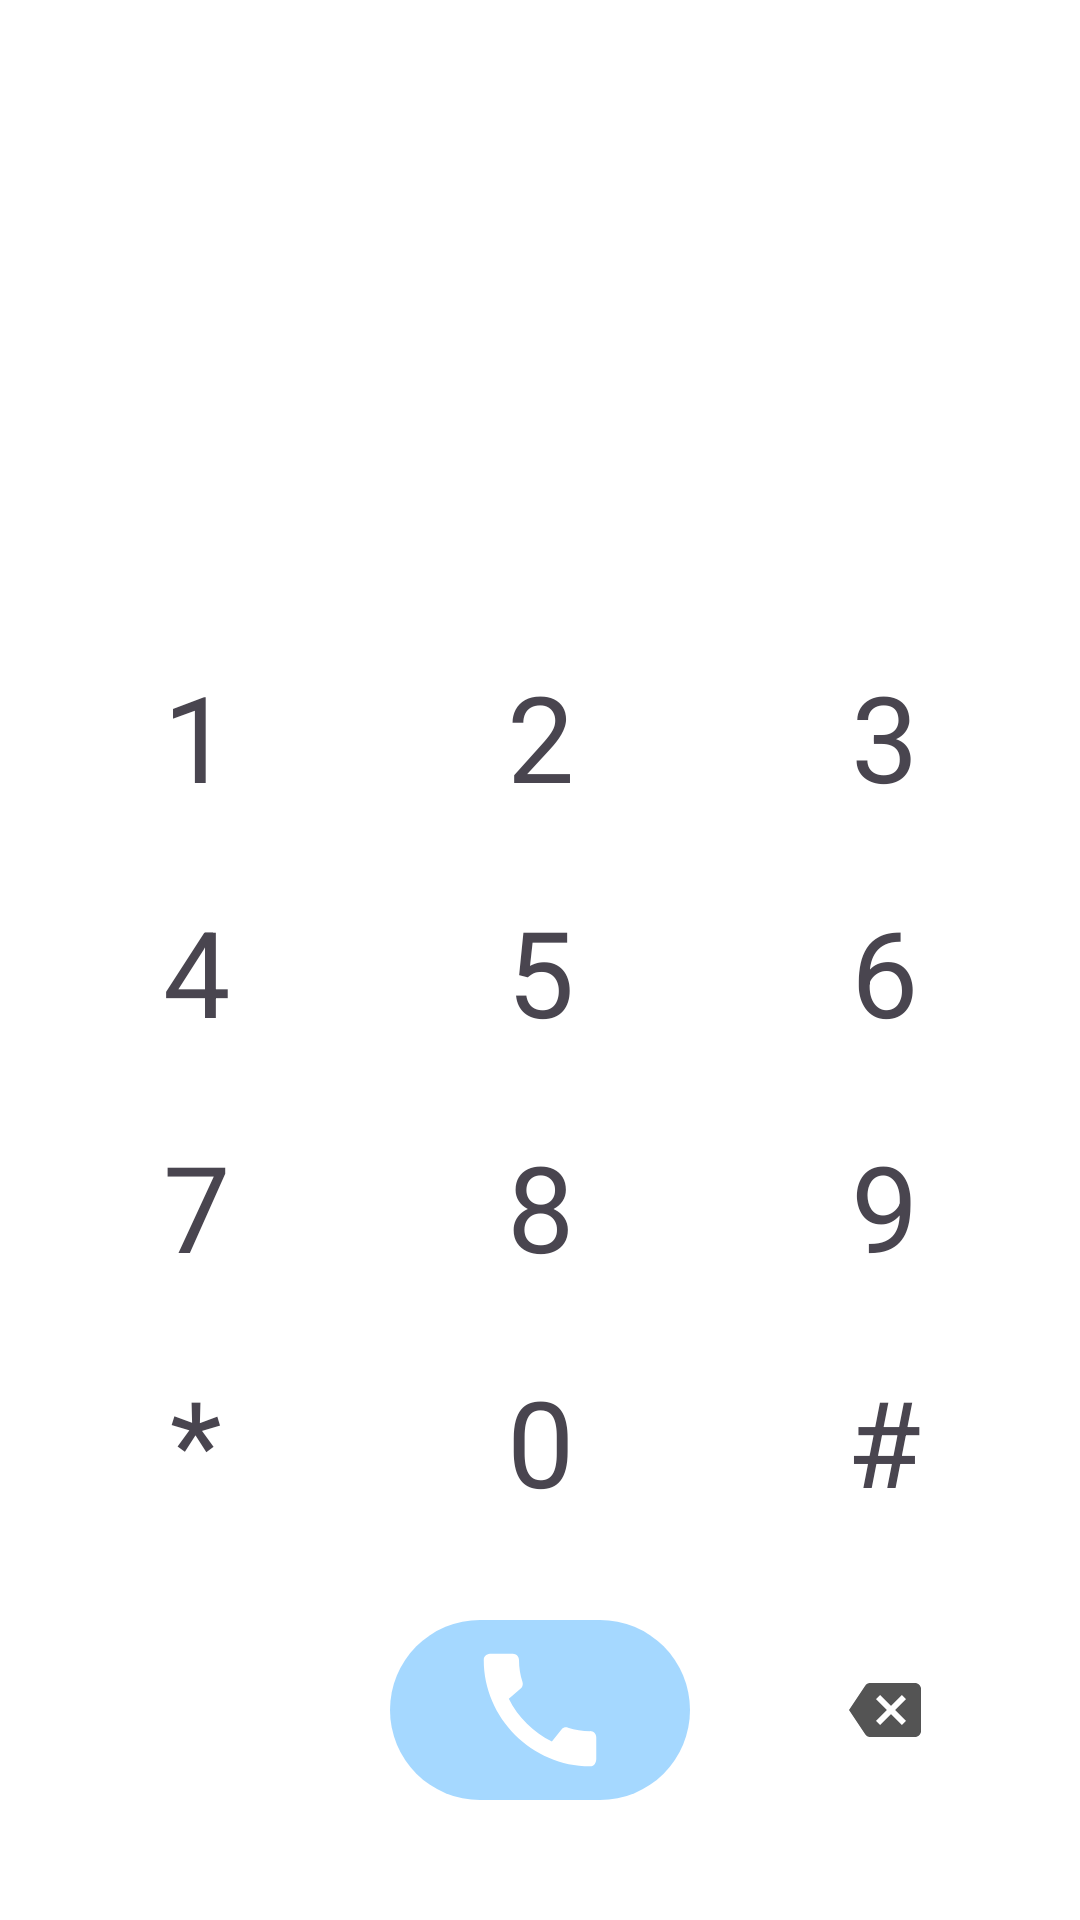

Screen size 1080×1920. Icon name, then its box in pixels as (x1, y1, x2, y2):
Call: (390, 1620, 690, 1800)
Delete: (849, 1683, 921, 1737)
